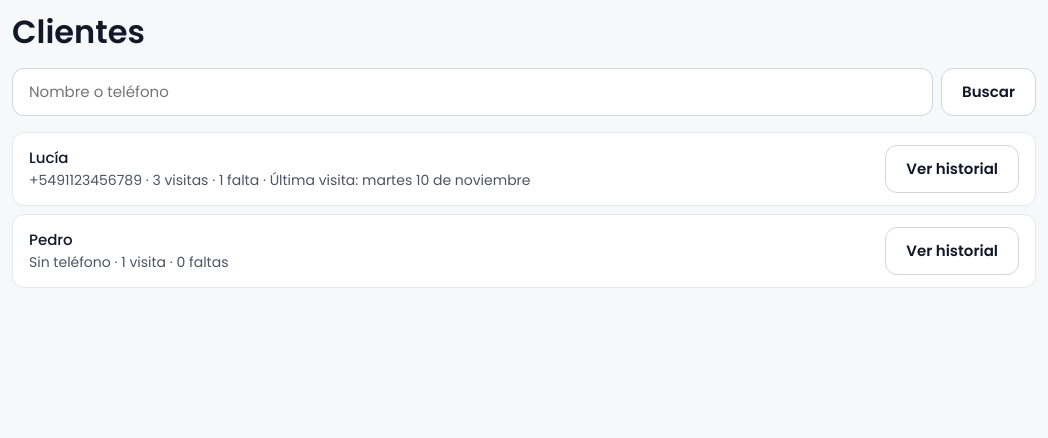
Test case: Clientes del local › HU-31 CA2: "Ver historial" muestra sus turnos del más nuevo al más viejo
Click the button "Ver historial" in the row of "Lucía".
click(952, 169)  # box [885, 145, 1019, 193]
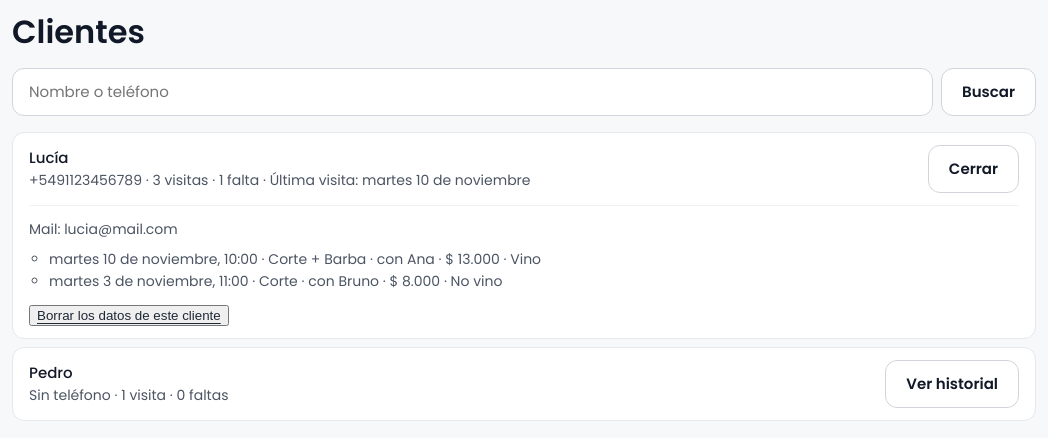
Check: the list item that starts with "martes 10 de noviembre" reads "martes 10 de noviembre, 10:00 · Corte + Barba · con Ana · $ 13.000 · Vino", box [49, 249, 541, 269]
Check: the list item that starts with "martes 3 de noviembre" shows "No vino", box [451, 271, 502, 291]
